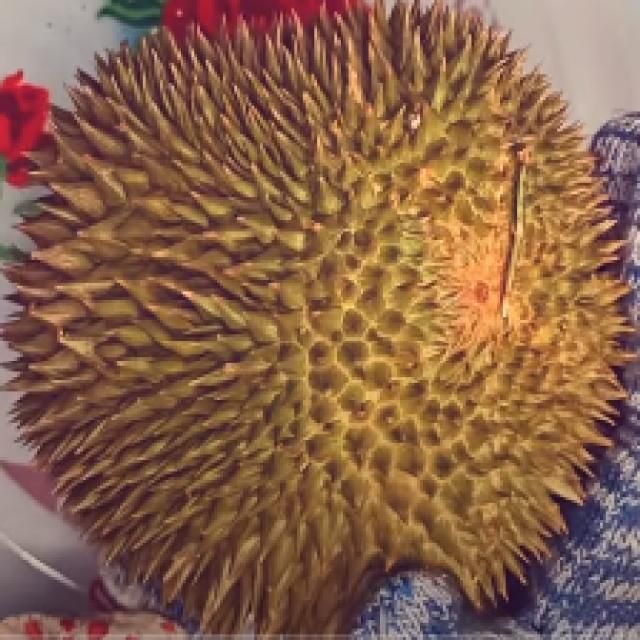d101: (64, 80, 612, 576), (220, 251, 370, 443)
